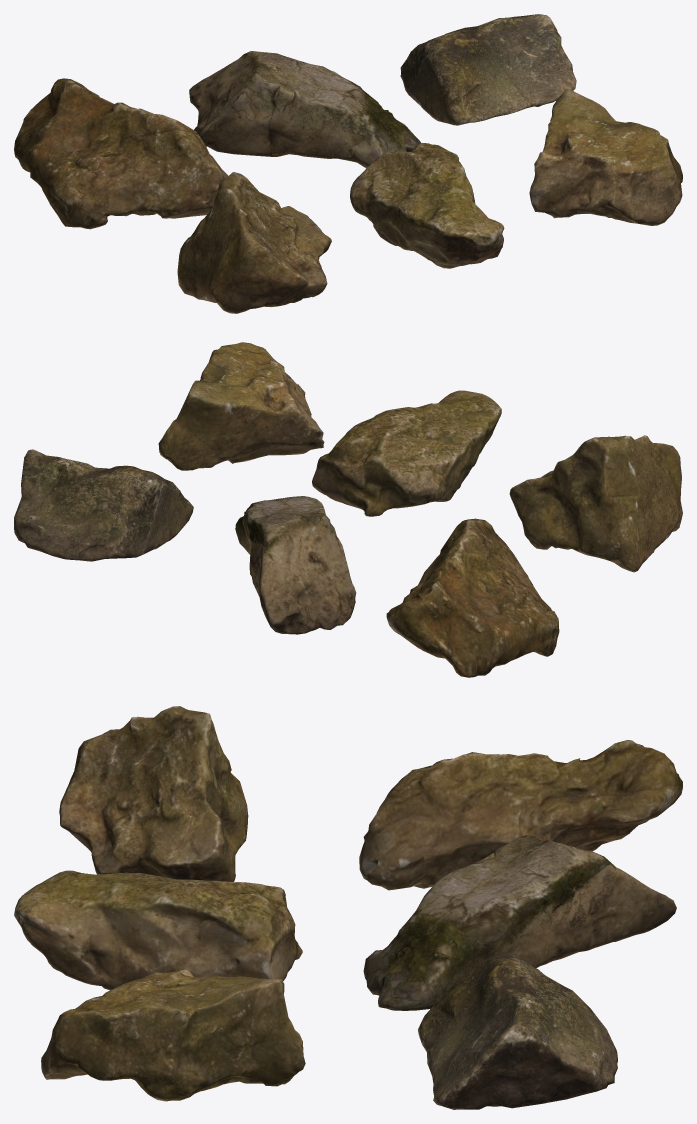
The model's file is rock_moss_set_01.glb.
3 views of the same model, one above another, from view 1: azimuth 30°, elevation 25°; view 2: azimuth 150°, elevation 25°; view 3: azimuth 270°, elevation 25° (orthographic). The views are drawn at different scales.
Parts seen in each view (by area): view 1: rock_moss_set_01_rock01, rock_moss_set_01_rock02, rock_moss_set_01_rock06, rock_moss_set_01_rock04, rock_moss_set_01_rock03, rock_moss_set_01_rock05; view 2: rock_moss_set_01_rock04, rock_moss_set_01_rock01, rock_moss_set_01_rock05, rock_moss_set_01_rock03, rock_moss_set_01_rock06, rock_moss_set_01_rock02; view 3: rock_moss_set_01_rock01, rock_moss_set_01_rock02, rock_moss_set_01_rock05, rock_moss_set_01_rock04, rock_moss_set_01_rock06, rock_moss_set_01_rock03.
Part boxes in pixels (x1,y1,x2,y2): rock_moss_set_01_rock01: [14, 78, 228, 229]; rock_moss_set_01_rock02: [189, 51, 421, 168]; rock_moss_set_01_rock06: [529, 89, 682, 225]; rock_moss_set_01_rock04: [177, 172, 331, 313]; rock_moss_set_01_rock03: [400, 14, 576, 125]; rock_moss_set_01_rock05: [350, 143, 504, 268]; rock_moss_set_01_rock04: [509, 435, 682, 572]; rock_moss_set_01_rock01: [386, 518, 559, 677]; rock_moss_set_01_rock05: [312, 390, 501, 516]; rock_moss_set_01_rock03: [14, 449, 193, 561]; rock_moss_set_01_rock06: [158, 342, 324, 470]; rock_moss_set_01_rock02: [235, 496, 356, 634]; rock_moss_set_01_rock01: [359, 740, 682, 890]; rock_moss_set_01_rock02: [363, 835, 676, 1010]; rock_moss_set_01_rock05: [14, 870, 302, 990]; rock_moss_set_01_rock04: [59, 706, 248, 881]; rock_moss_set_01_rock06: [41, 969, 305, 1101]; rock_moss_set_01_rock03: [418, 955, 617, 1109].
Bounding box in the file's own units: 8 × 1.76 × 6.94.
1 material, 1 textured.
